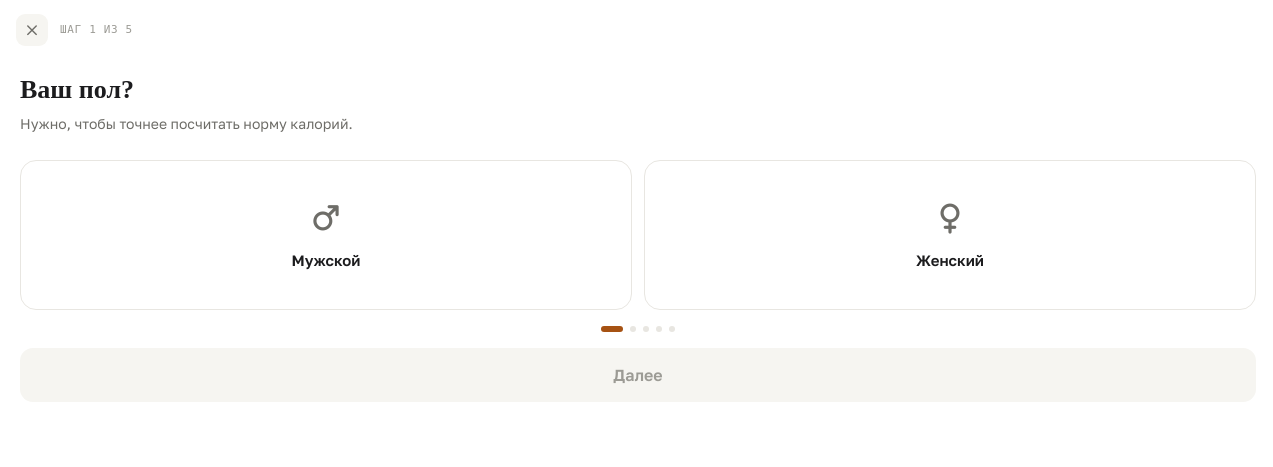
ProfileWizard — дефолты роста/веса по полу › женский → 165 см / 62 кг
Click the button "Женский" at (950, 235), box [644,160,1256,310]
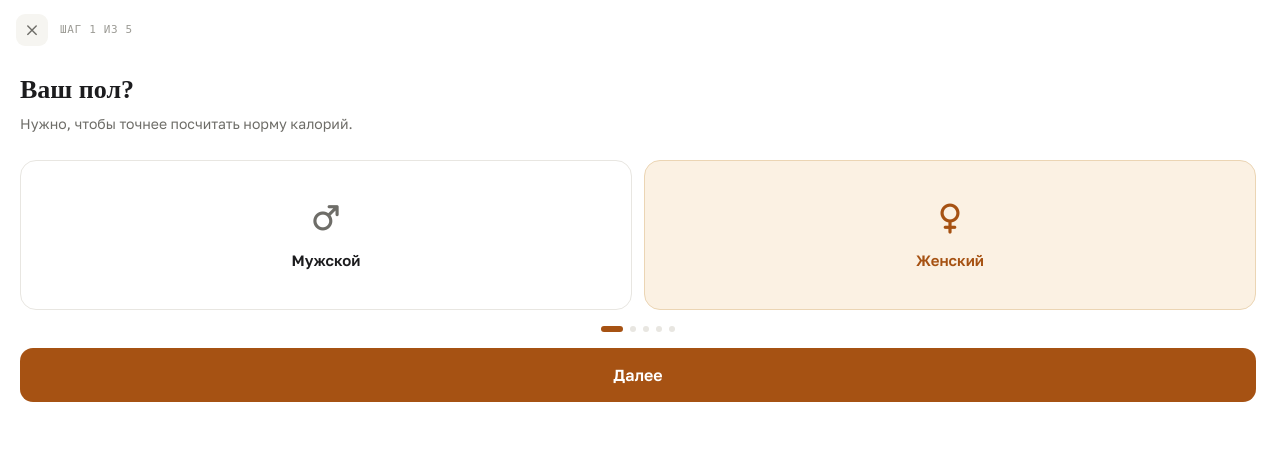
Click the button "Далее" at (638, 375), box [20,348,1256,402]
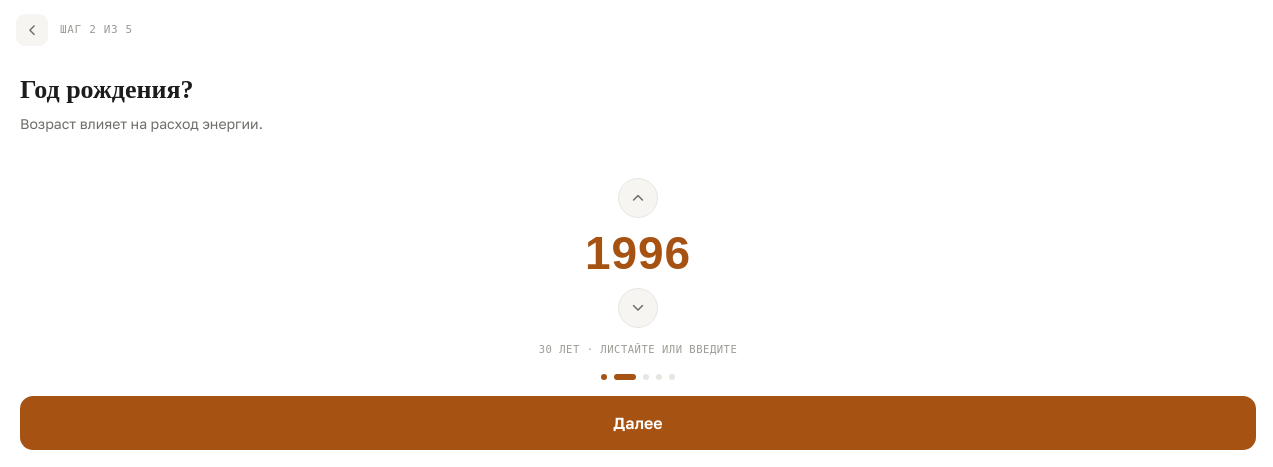
Click the button "Далее" at (638, 423), box [20,396,1256,450]
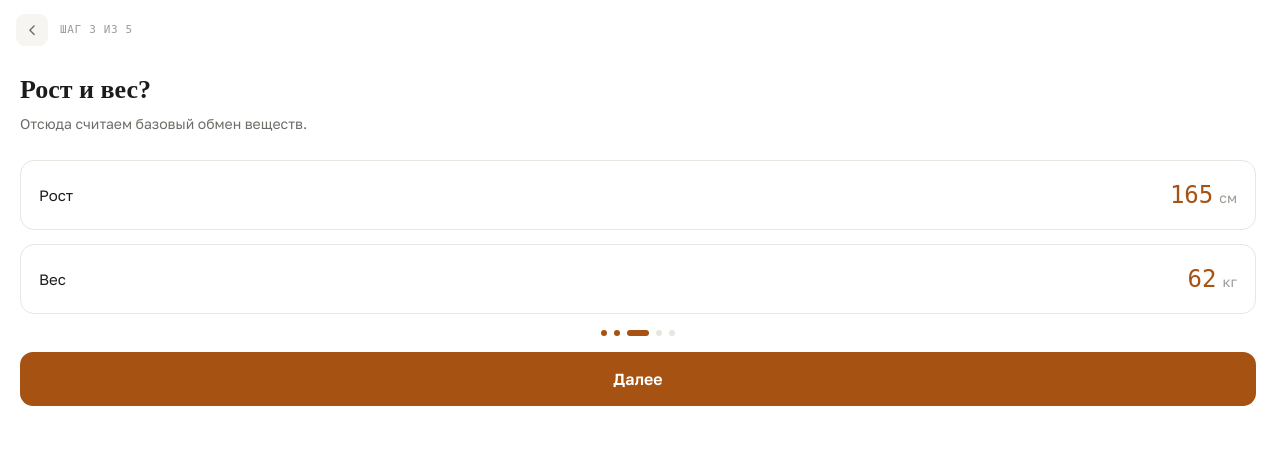
Expected: the number field showing "165" next to "см" is shown, [1151,177,1213,213]
Expected: the number field showing "62" next to "кг" is shown, [1154,261,1216,297]
